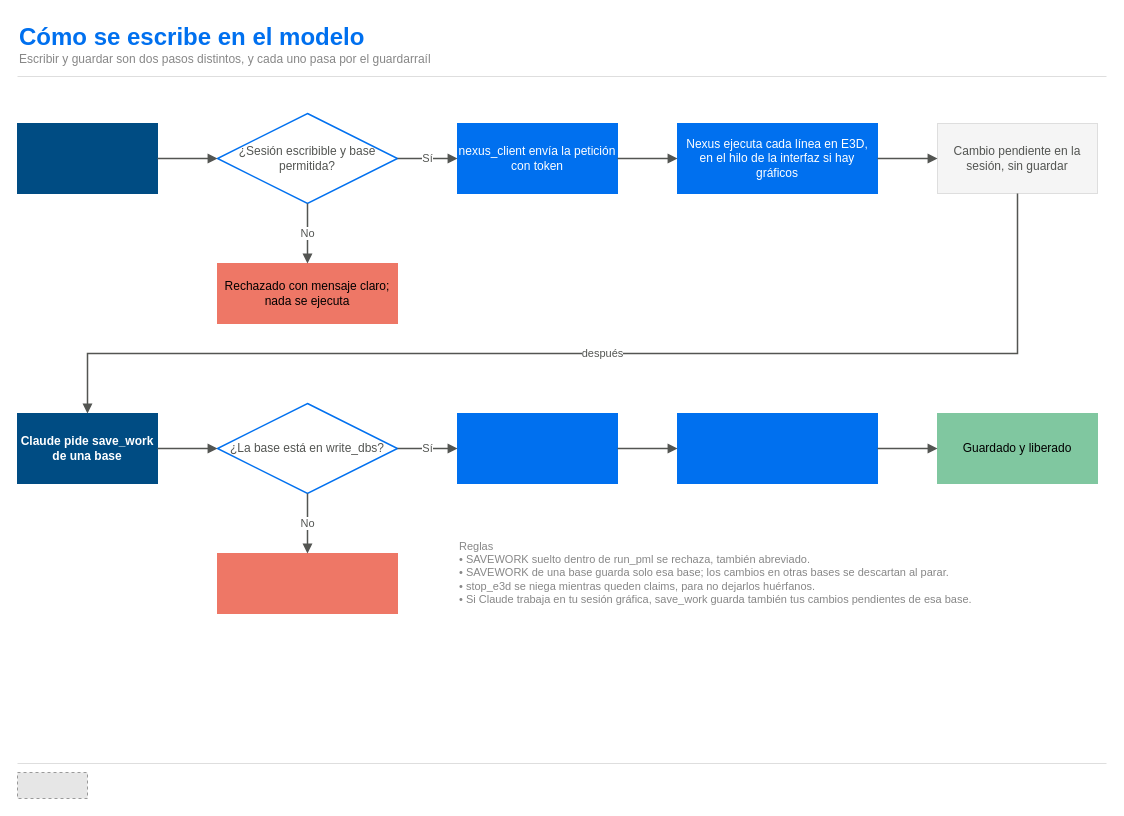
The diagram is 1124 pixels wide and 816 high, and some of its shapes have lost their labels. Grey dashed boxes stand in for pictures. The box of each missing label's shape, as (x1, y1, x2, y2) in pixels:
Claude pide run_pml (por ejemplo NEW EQUI): (16, 122, 158, 194)
Rechazado; el cambio se pierde al parar la sesión: (216, 552, 398, 614)
SAVEWORK solo de esa base: (456, 412, 618, 484)
UNCLAIM ALL libera los claims: (676, 412, 878, 484)
